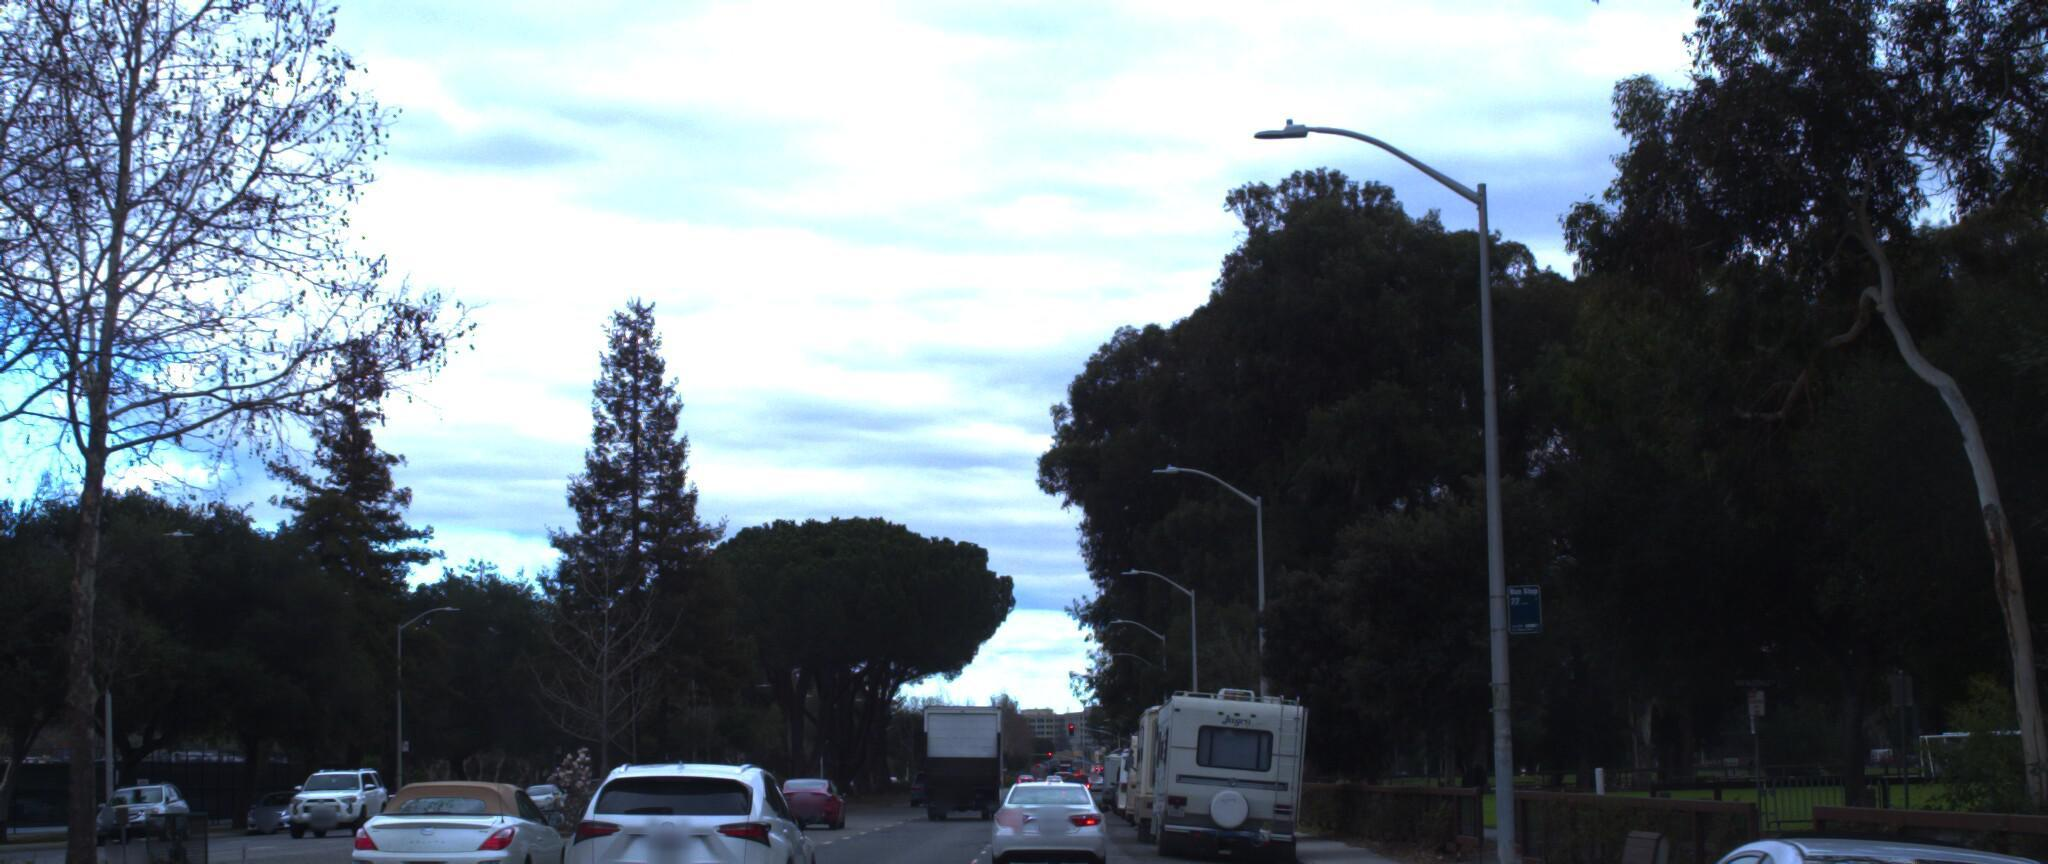car: (549, 750, 829, 864), (1569, 807, 2048, 864), (334, 765, 577, 864), (990, 761, 1112, 864), (1855, 812, 2048, 864), (290, 760, 396, 829), (767, 761, 844, 820)
other_vehicle: (1142, 670, 1313, 855), (1128, 677, 1258, 841)
